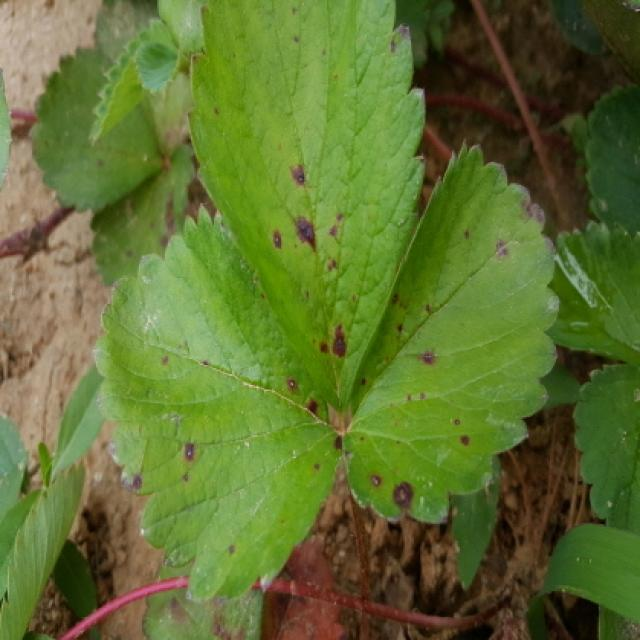Leaf Spot: (91, 201, 342, 605), (186, 0, 427, 417), (339, 136, 561, 525), (27, 45, 165, 215), (91, 141, 197, 287)
